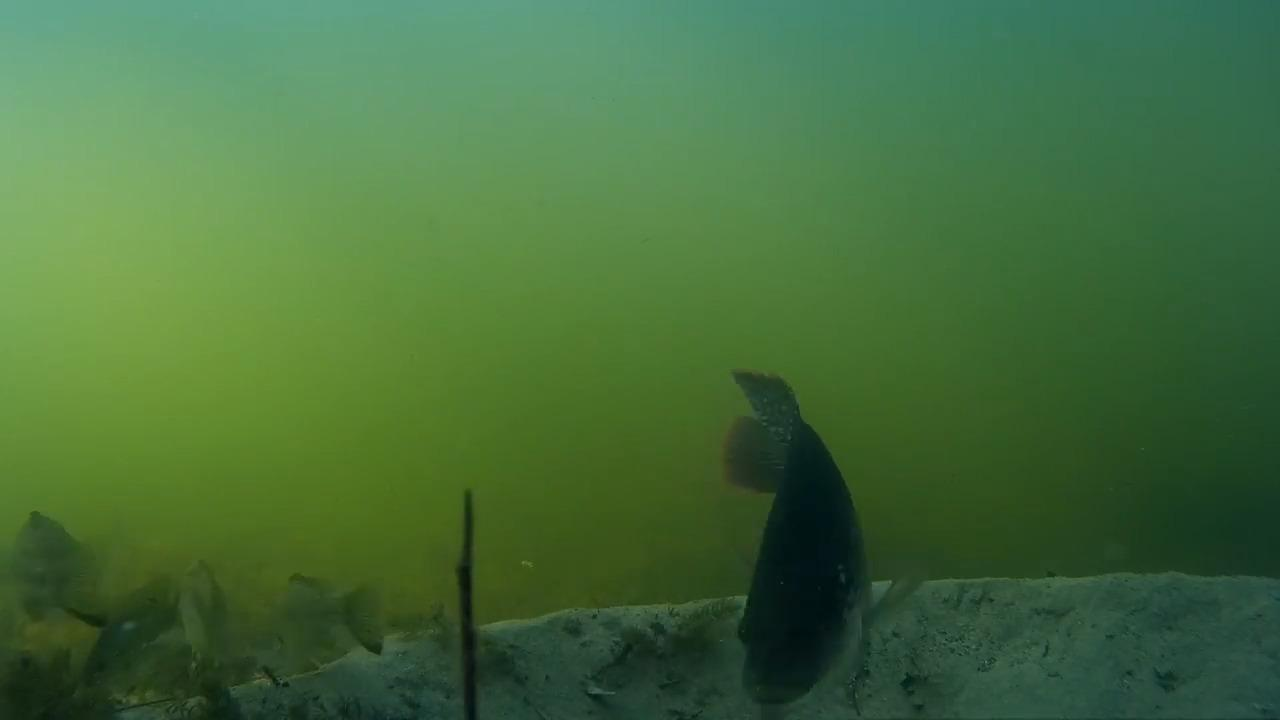Tilapia: (651, 360, 946, 704), (3, 502, 125, 678), (236, 558, 393, 684)
